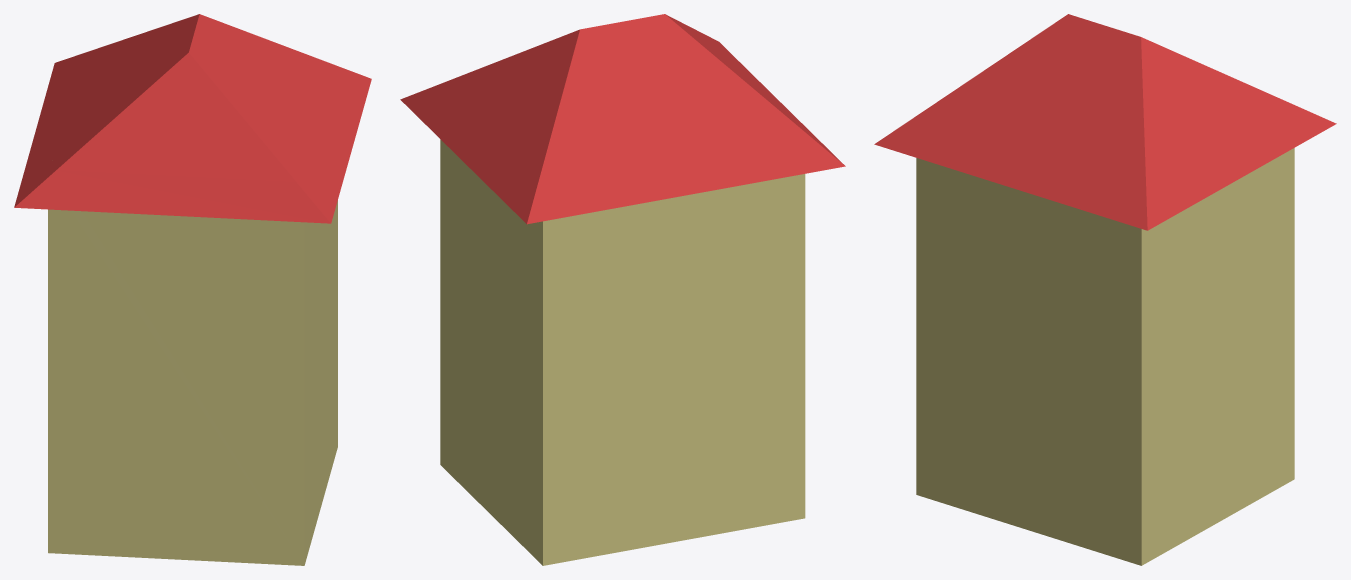
The picture shows the model from 3 angles, left to right: view 1: azimuth 30°, elevation 25°; view 2: azimuth 150°, elevation 25°; view 3: azimuth 270°, elevation 25°; orthographic projection.
Size of the model in its own units: 7.57 by 7.65 by 8.43.
